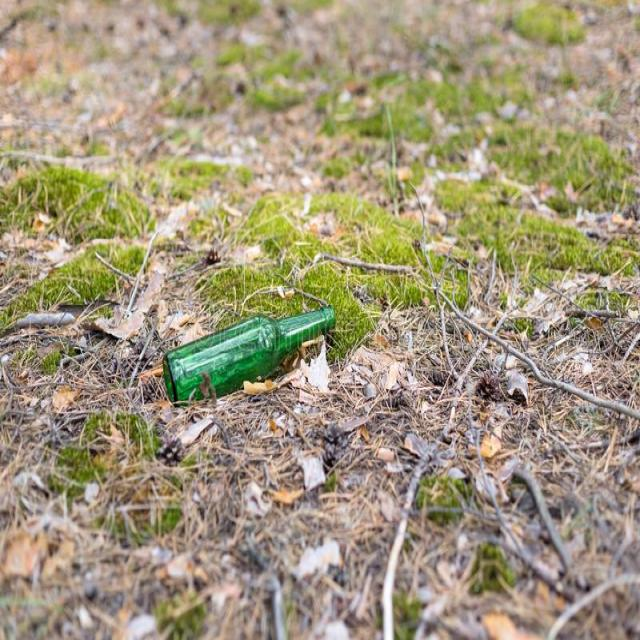non-organic waste: (156, 298, 342, 408)
